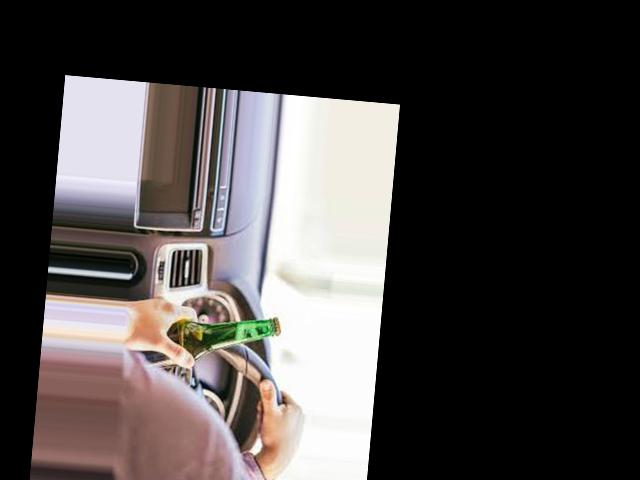beer: (126, 303, 282, 380)
